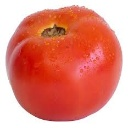tomato: (7, 5, 125, 123)
